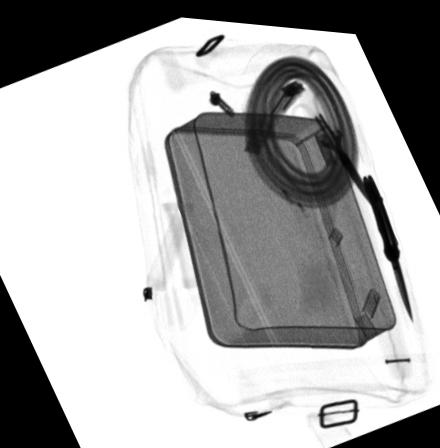Knife: (362, 165, 413, 313)
Scissors: (288, 80, 386, 211)
